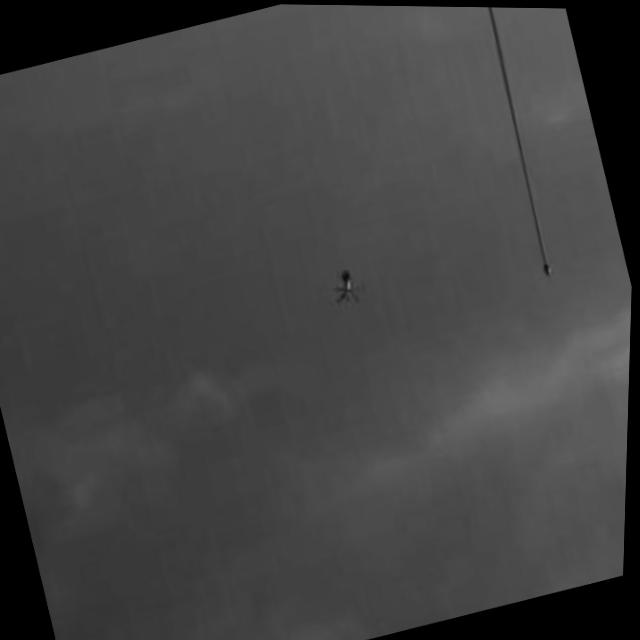helikopter: (322, 258, 371, 320)
